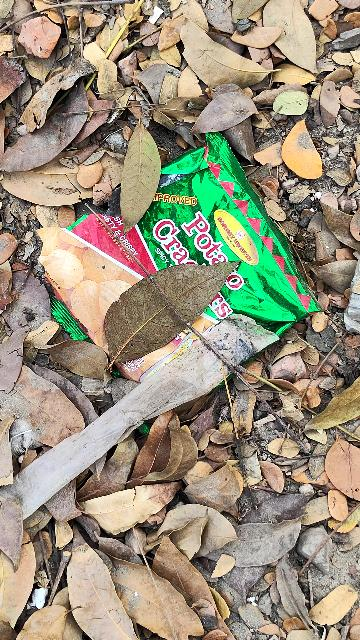packet: (24, 136, 323, 419)
